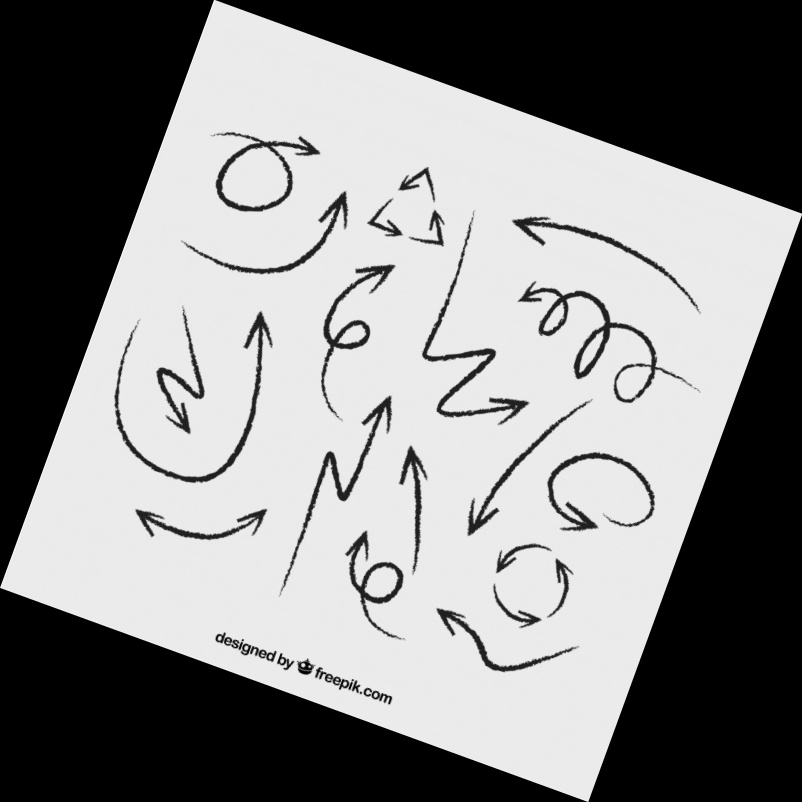arrow: (349, 389, 398, 476), (457, 461, 500, 539), (508, 212, 580, 257), (304, 188, 353, 254), (120, 502, 195, 545), (330, 260, 399, 305), (392, 444, 433, 518), (538, 492, 602, 539), (242, 309, 276, 395), (462, 392, 529, 427), (212, 507, 275, 544), (438, 604, 486, 651), (157, 390, 196, 440), (334, 530, 375, 577), (493, 599, 546, 633), (278, 129, 325, 163), (491, 539, 530, 577), (552, 558, 580, 604), (516, 275, 554, 306), (391, 164, 425, 198), (372, 218, 408, 245), (419, 207, 448, 240)
